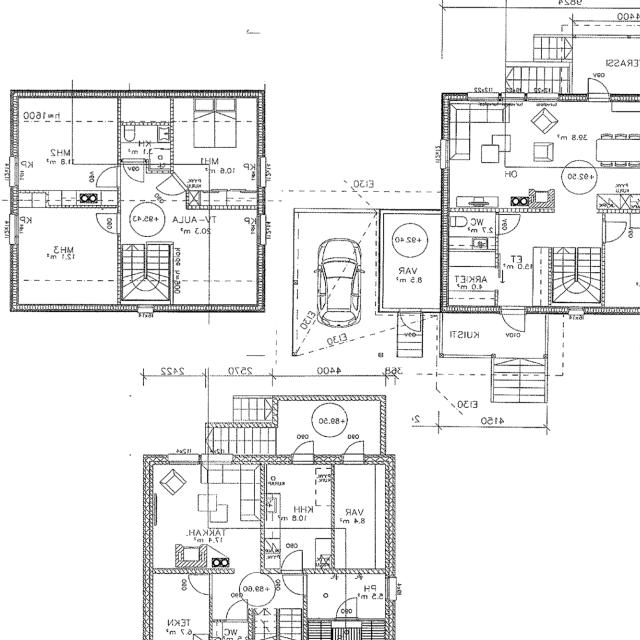door: (502, 307, 525, 338), (587, 71, 610, 101), (292, 434, 314, 465), (344, 436, 364, 465), (226, 598, 248, 623), (400, 310, 421, 335), (282, 549, 302, 574), (603, 222, 628, 242), (495, 215, 520, 235), (96, 166, 121, 186), (283, 576, 308, 595), (188, 576, 213, 595), (336, 599, 357, 621), (123, 160, 144, 182), (170, 173, 190, 190), (170, 210, 190, 227)
